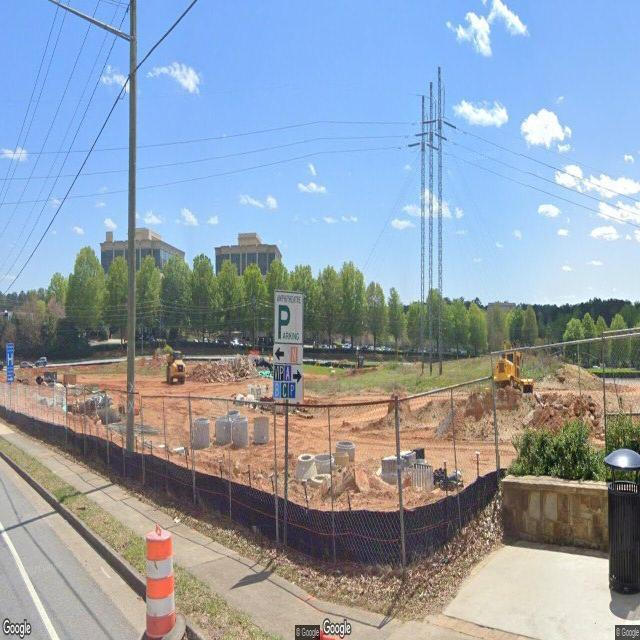trash_can: (606, 445, 640, 605)
